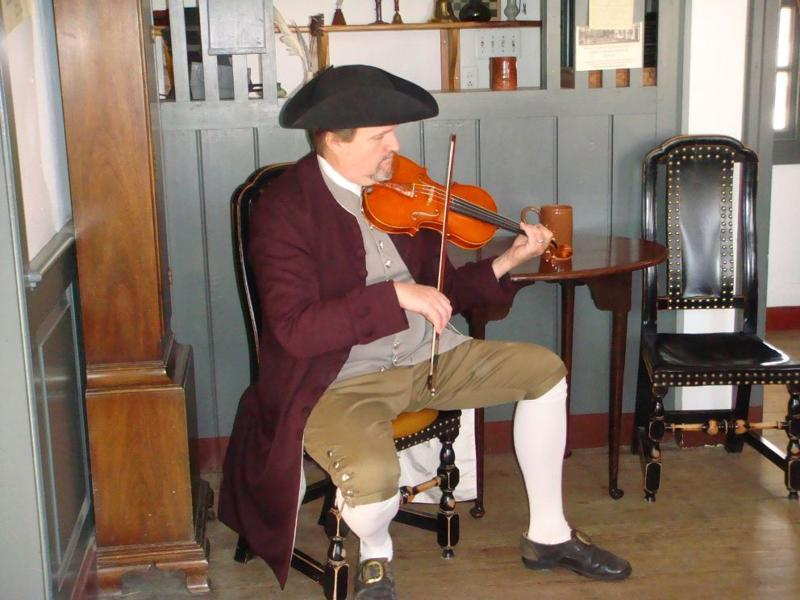person: (217, 68, 635, 596)
